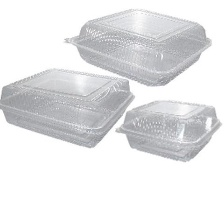plastic_box: (58, 2, 218, 91), (0, 62, 140, 153), (110, 92, 224, 166)
